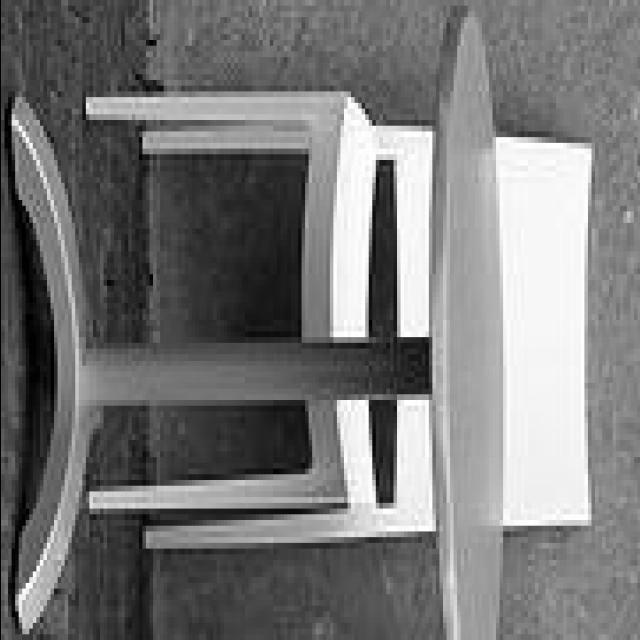chair: (88, 94, 593, 562)
